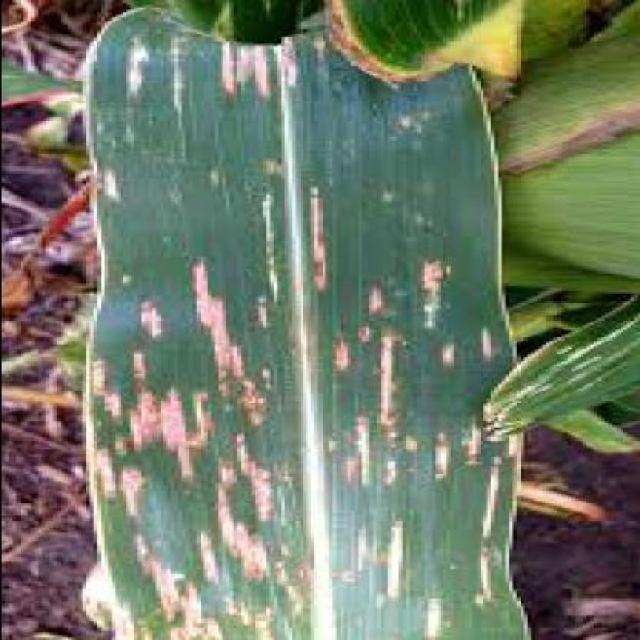Corn_Grey_Leaf_Spot: (68, 6, 524, 640)
